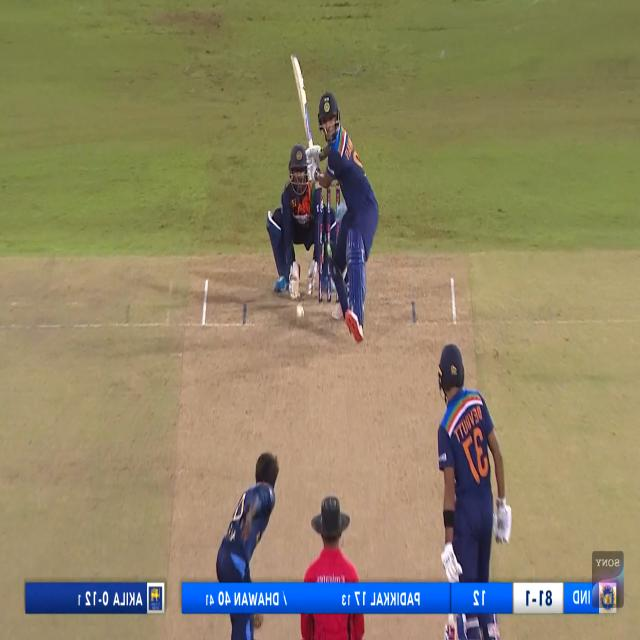ball: (296, 302, 304, 320)
